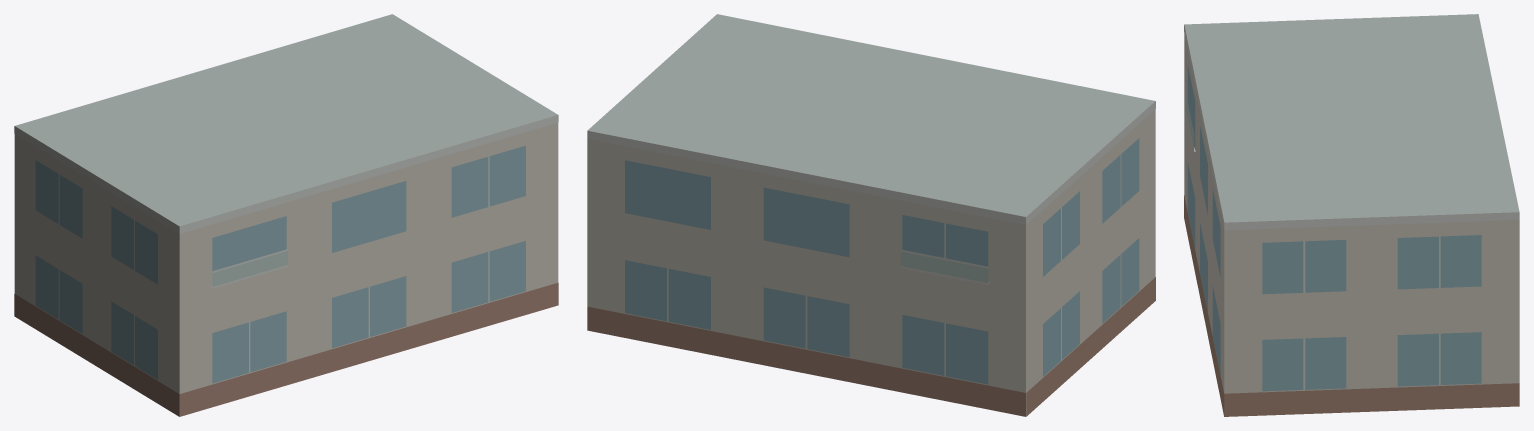
File: survey-upis-32923463.glb
3 views of the same model, side by side, from view 1: azimuth 30°, elevation 25°; view 2: azimuth 150°, elevation 25°; view 3: azimuth 270°, elevation 25° (orthographic). The views are drawn at different scales.
Visible parts, largest first — view 1: survey-upis-32923463.tmp; view 2: survey-upis-32923463.tmp; view 3: survey-upis-32923463.tmp.
Part boxes in pixels (x1,y1,x2,y2): survey-upis-32923463.tmp: [14, 14, 558, 416]; survey-upis-32923463.tmp: [587, 14, 1155, 416]; survey-upis-32923463.tmp: [1184, 14, 1519, 416].
Bounding box in the file's own units: 14.06 × 6.1 × 9.56.
